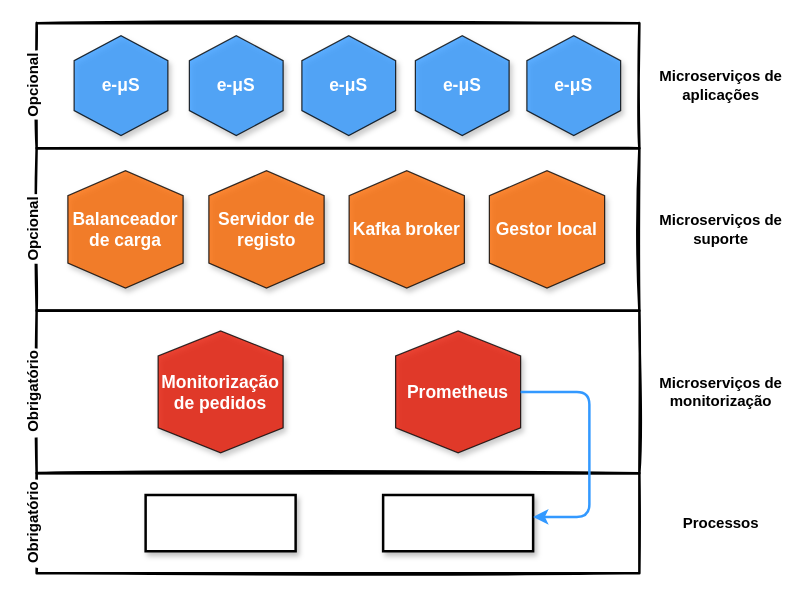
The diagram is 811 pixels wide and 595 high, and some of its shapes have lost their labels. Here are the shapes that lost their labels. From the top down, the centre of each, then its label:
[221,524]: Docker
[458,524]: Node exporter
